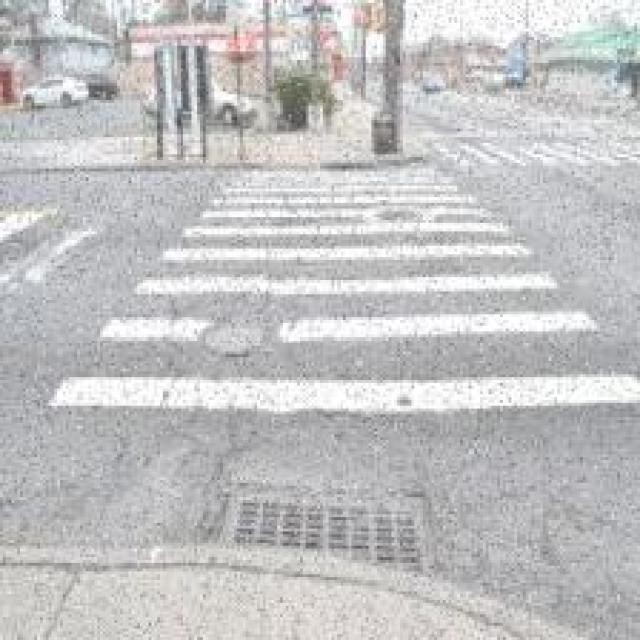walk-crossing: (40, 160, 637, 417), (407, 130, 639, 179)
